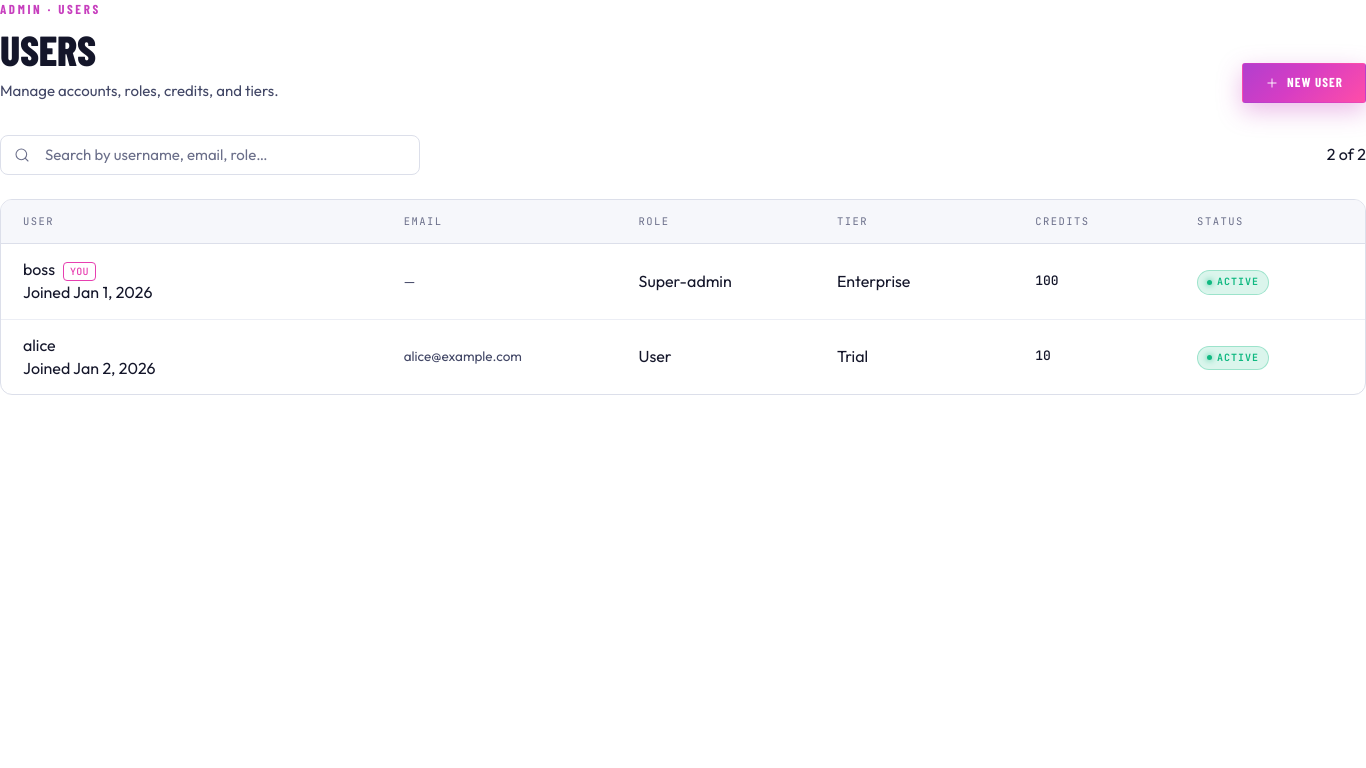
Test case: AdminUsers › opens the edit modal when a row is clicked
Click the element with test id "admin-user-row-alice" at (646, 356), box [23,334,1269,378]
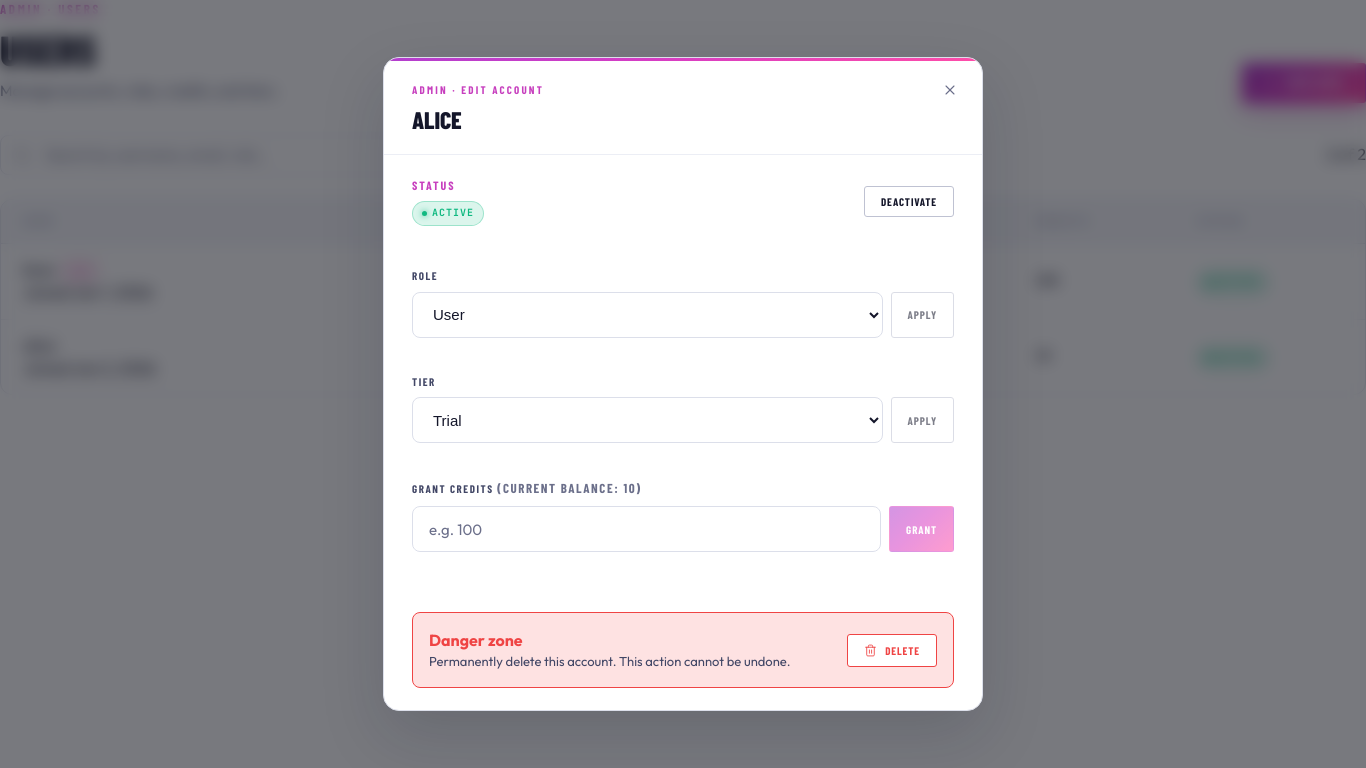
Expected: the element with test id "edit-user-modal" is shown, [383,57,983,711]
